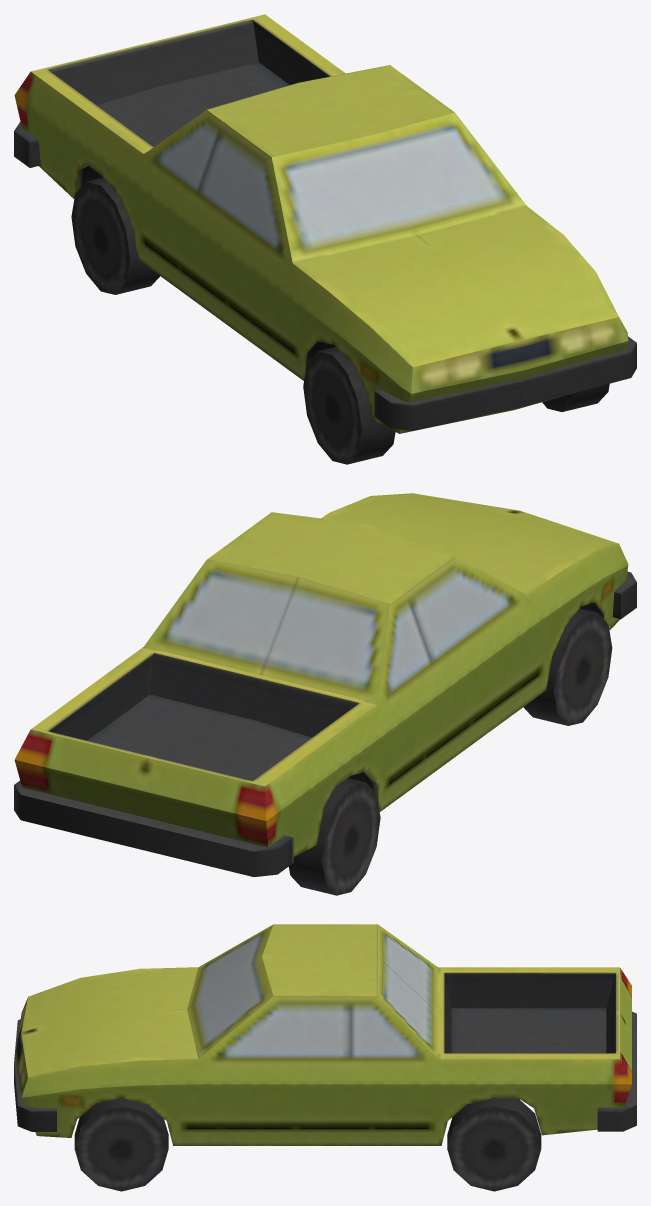
Rendered from Pickup.fbx.
The picture shows the model from 3 angles, top to bottom: view 1: azimuth 30°, elevation 25°; view 2: azimuth 150°, elevation 25°; view 3: azimuth 270°, elevation 25°; orthographic projection. The views are drawn at different scales.
Visible parts, largest first — view 1: Pickup, RFWheel.001, BaskWheels, LFWheel.001; view 2: Pickup, BaskWheels, RFWheel.001; view 3: Pickup, BaskWheels, LFWheel.001.
Boxes of the visible parts, <box> form: Pickup: <box>14,14,636,433</box>; RFWheel.001: <box>303,347,395,464</box>; BaskWheels: <box>71,177,159,294</box>; LFWheel.001: <box>542,384,609,411</box>; Pickup: <box>14,493,636,876</box>; BaskWheels: <box>288,778,380,895</box>; RFWheel.001: <box>523,608,612,725</box>; Pickup: <box>14,924,636,1145</box>; BaskWheels: <box>447,1098,541,1191</box>; LFWheel.001: <box>74,1098,168,1191</box>.
Size of the model in its own units: 1.72 by 1.44 by 4.37.
